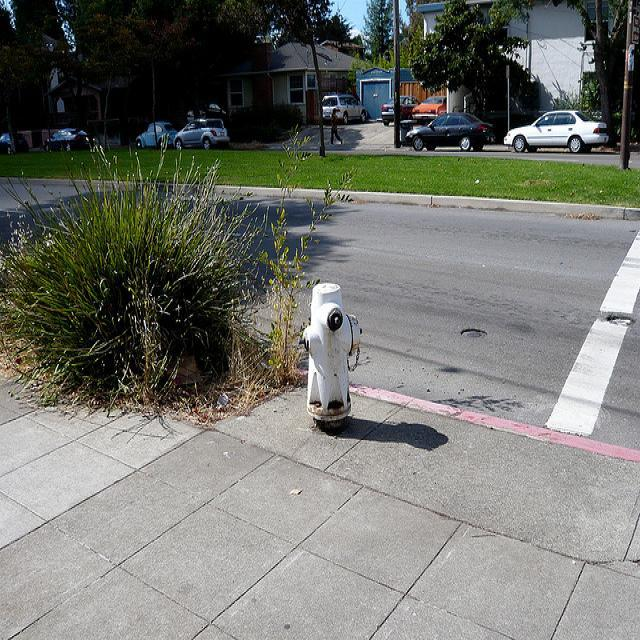fire_hydrant: (296, 281, 363, 423)
